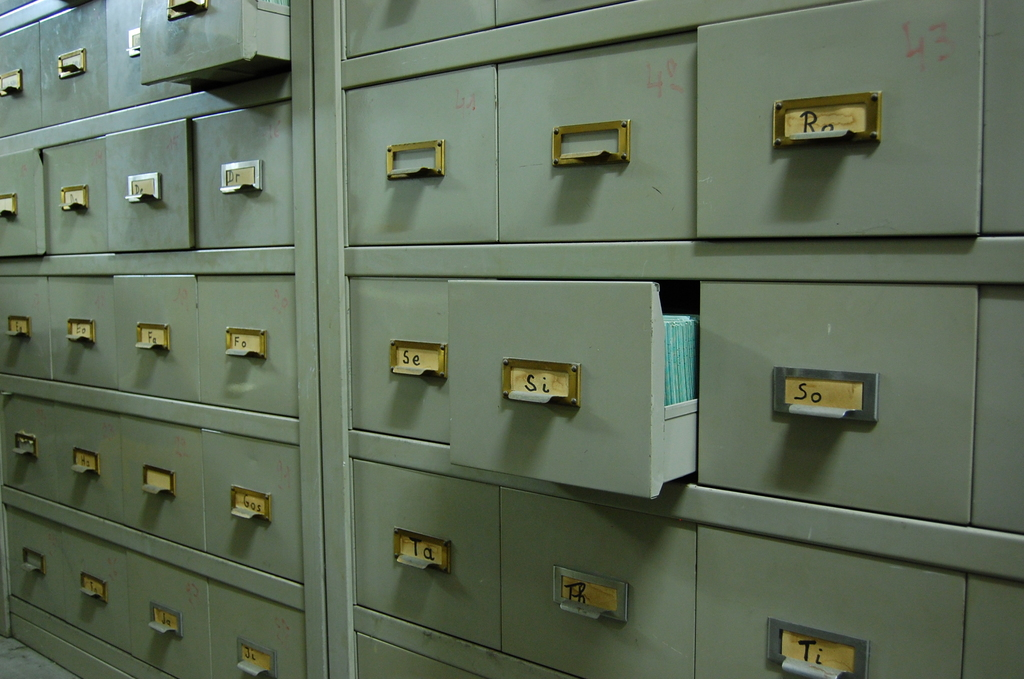cabinet door: (707, 286, 982, 502), (697, 37, 978, 228), (449, 290, 655, 483), (492, 63, 694, 237), (492, 497, 689, 675), (702, 545, 954, 679), (349, 97, 498, 233), (358, 466, 486, 623), (344, 281, 451, 435), (198, 436, 296, 561), (198, 279, 290, 411), (198, 121, 290, 241), (107, 274, 200, 389), (103, 139, 191, 250), (129, 574, 209, 679), (115, 422, 191, 524), (214, 594, 303, 679), (61, 541, 127, 649), (49, 269, 110, 381), (146, 3, 247, 70), (44, 158, 111, 254), (342, 8, 483, 52), (54, 407, 113, 502), (42, 34, 110, 112), (2, 400, 60, 489), (3, 279, 54, 373), (11, 519, 59, 612), (2, 159, 47, 257), (3, 33, 45, 135), (107, 13, 152, 85)
handle: (778, 651, 846, 679), (787, 398, 850, 422), (558, 601, 609, 629), (786, 128, 851, 147), (558, 143, 607, 168), (502, 391, 556, 412), (225, 500, 263, 529), (386, 356, 425, 382), (392, 551, 434, 575), (125, 336, 164, 360), (140, 617, 175, 642), (222, 342, 259, 363), (386, 161, 429, 179), (66, 456, 94, 482), (135, 479, 166, 502), (238, 657, 270, 679), (65, 325, 91, 351), (75, 581, 102, 606), (10, 439, 34, 467), (14, 555, 40, 580), (55, 193, 82, 215), (54, 58, 79, 80), (219, 184, 251, 199), (7, 319, 28, 341), (125, 192, 151, 209), (0, 203, 25, 218), (0, 85, 21, 96)
